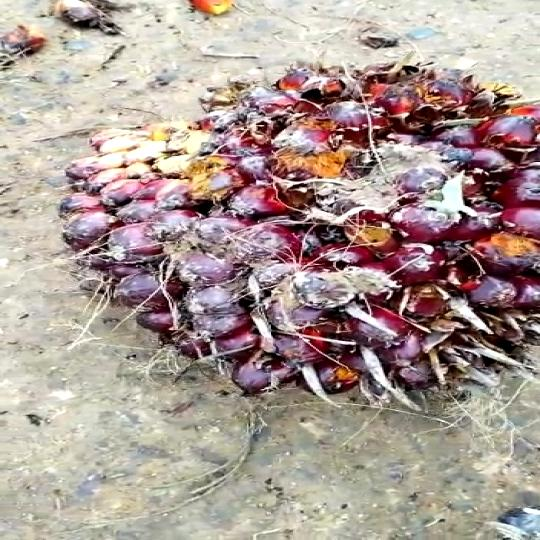masak: (47, 46, 540, 433)
